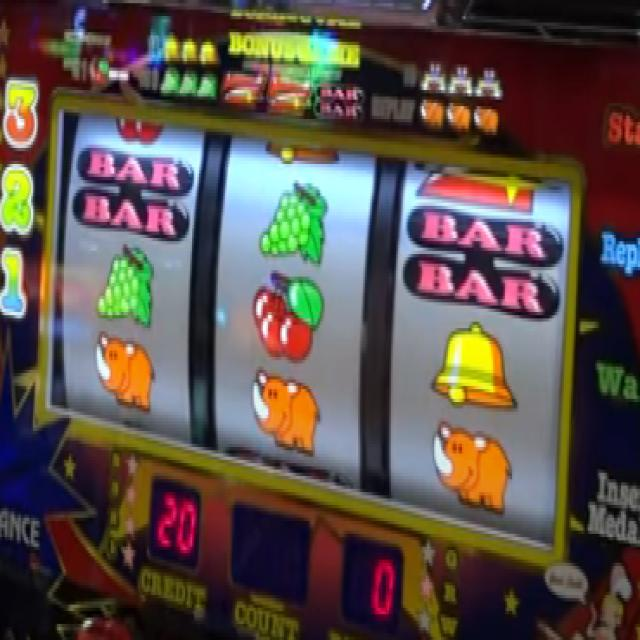bar: (404, 203, 560, 319), (74, 142, 193, 240), (314, 83, 362, 122)
bell: (431, 320, 519, 413), (266, 137, 342, 169)
cherry: (252, 266, 322, 366), (114, 113, 166, 142)
display: (51, 104, 564, 557)
elephant: (432, 419, 514, 520), (251, 366, 321, 454), (93, 330, 157, 417), (473, 106, 499, 136), (419, 98, 443, 130), (446, 103, 471, 131)
grape: (255, 176, 325, 266), (98, 244, 153, 327), (159, 66, 180, 97), (178, 67, 196, 99), (195, 74, 217, 98)
z: (412, 160, 554, 216), (222, 77, 266, 107), (268, 80, 310, 110)
